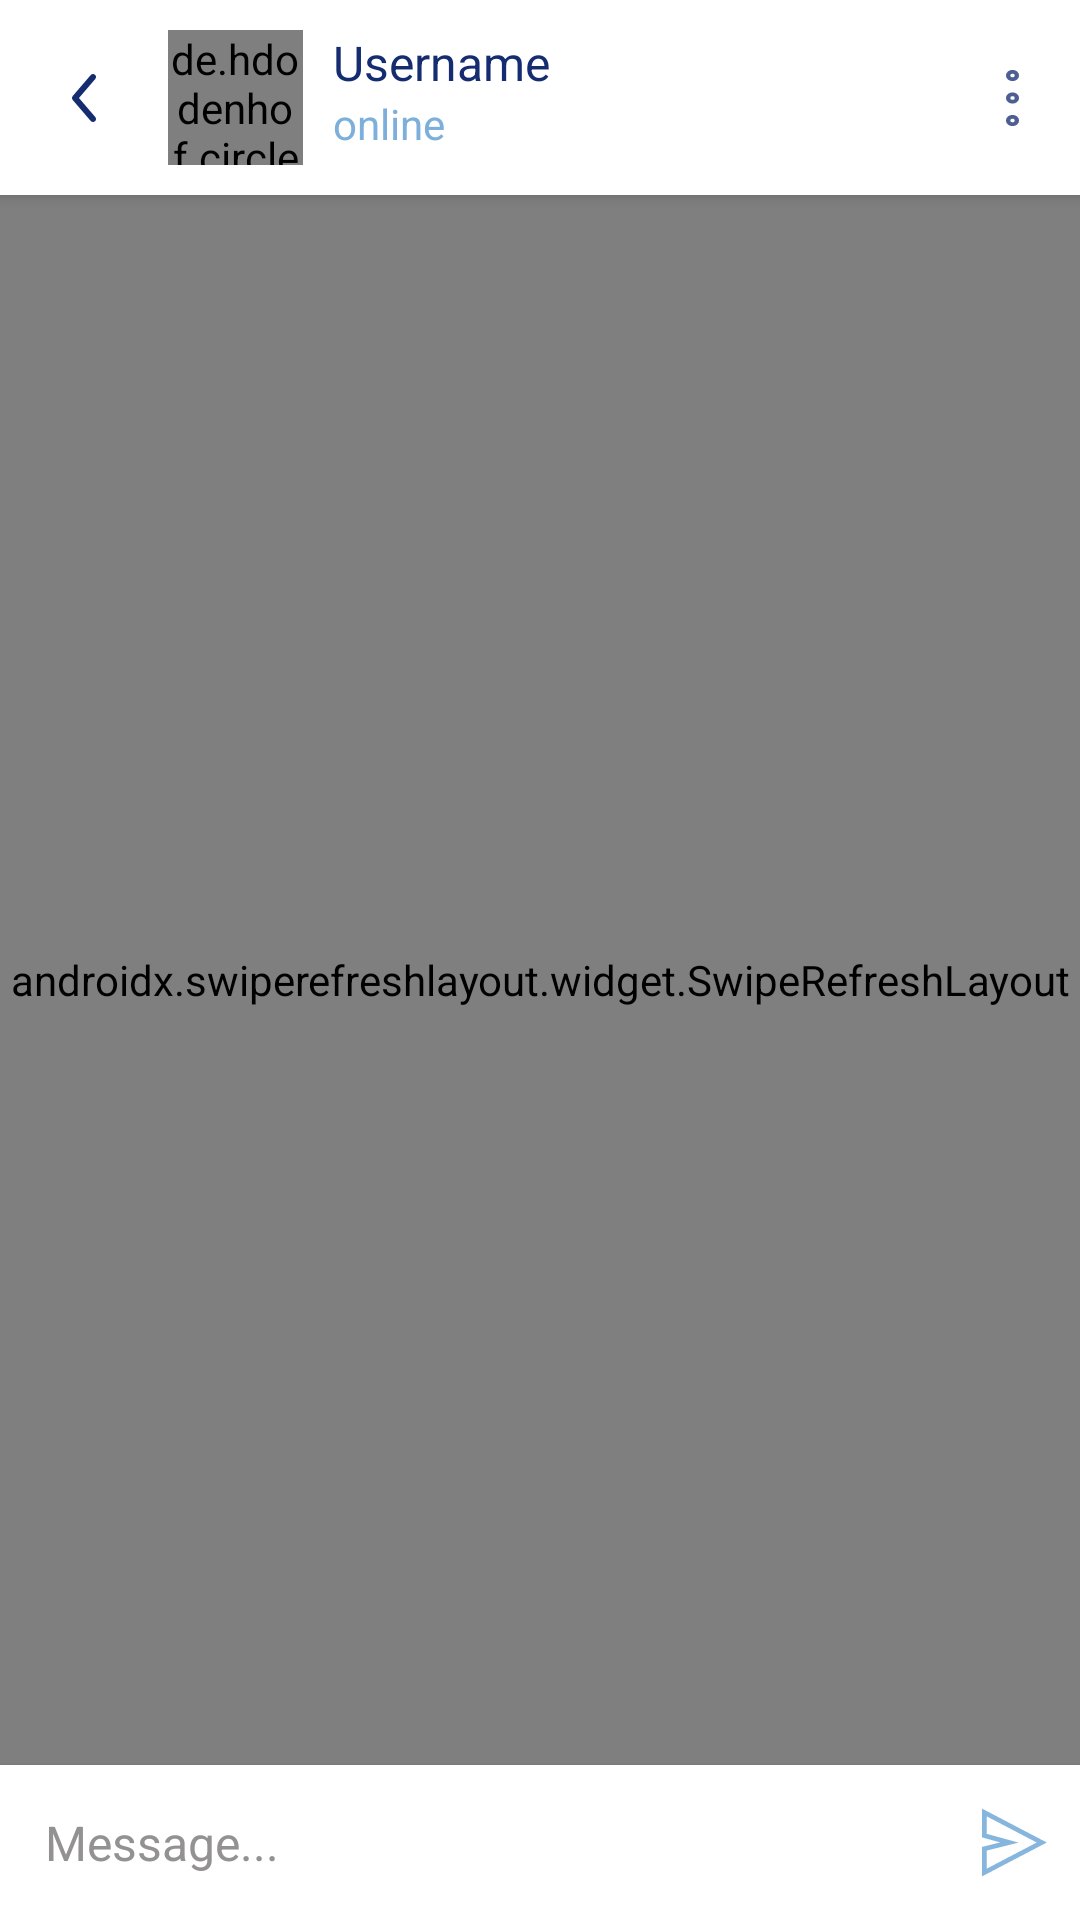

Icon bounding boxes for this 1080 × 1920 phone screenshot, format (x1, y1, x2, y2):
back arrow: (72, 74, 96, 122)
ellypsis vertical: (1006, 70, 1019, 126)
send: (982, 1809, 1047, 1876)
